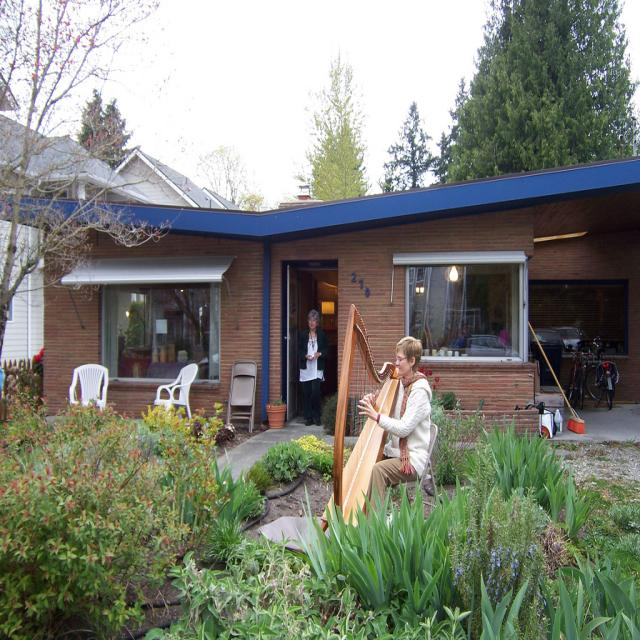harp: (327, 298, 402, 544)
